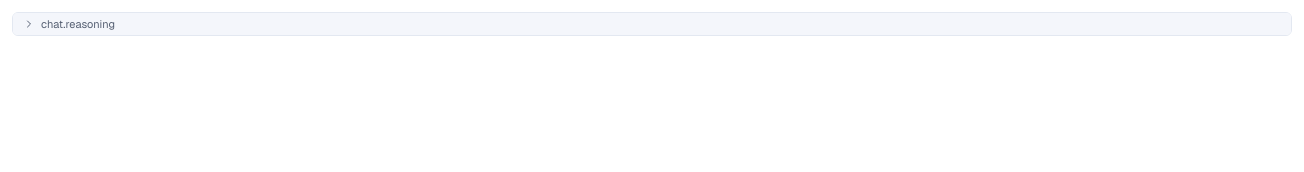
it: ThinkBlock — R7-9 streaming preview › renders full content in expanded mode when settled
Toggle to open
Click the button at (78, 24), box [13,13,1291,35]
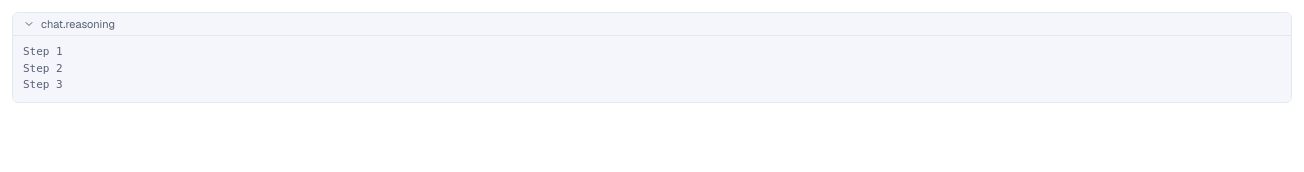
Now the text "Step 1 Step 2 Step 3" is shown, box [13,36,1291,102]
